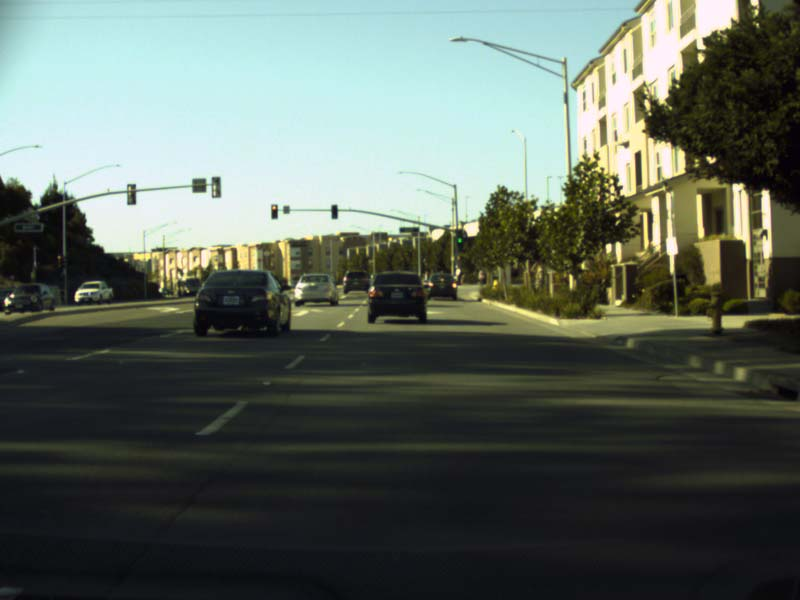Green: (456, 230, 462, 244)
Red: (55, 253, 62, 268), (271, 204, 277, 217)
